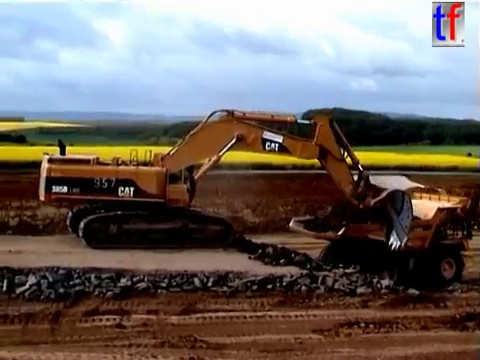excavator: (35, 106, 417, 253)
truck: (286, 184, 477, 291)
